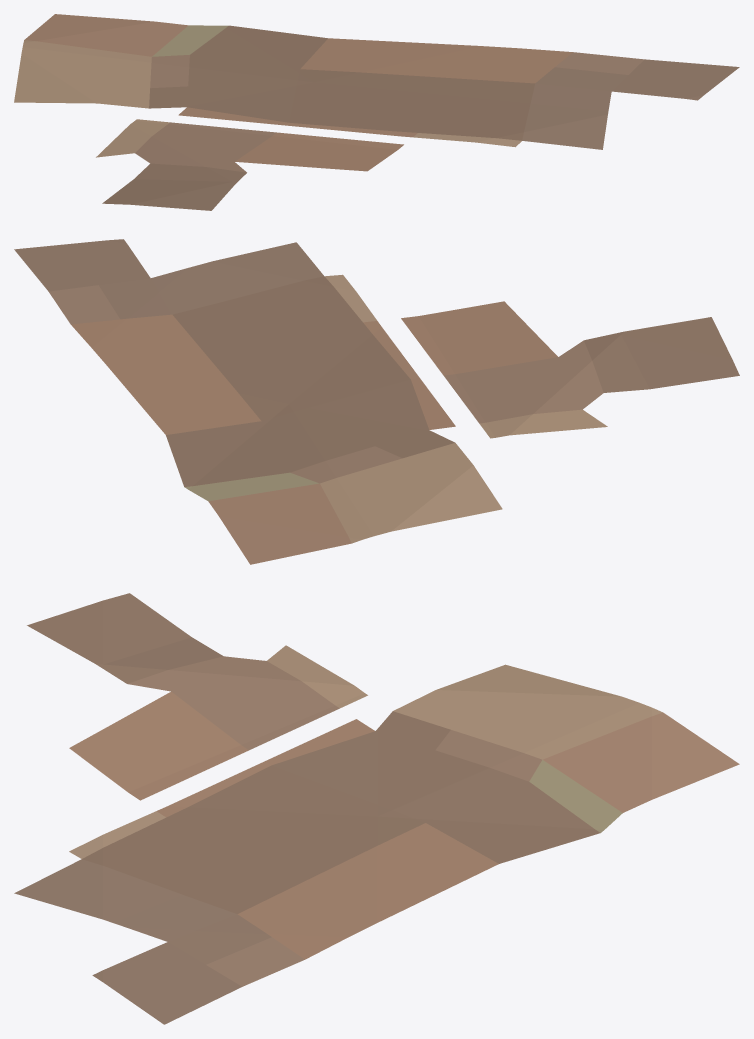
Rendered from farm_-43_-53_soil.glb.
3 views of the same model, one above another, from view 1: azimuth 30°, elevation 25°; view 2: azimuth 150°, elevation 25°; view 3: azimuth 270°, elevation 25° (orthographic). The views are drawn at different scales.
Visible parts, largest first — view 1: geometry_0; view 2: geometry_0; view 3: geometry_0.
Part boxes in pixels (box(x1,y1,x2,y2)): geometry_0: box(14, 14, 739, 210); geometry_0: box(14, 239, 739, 564); geometry_0: box(14, 593, 739, 1024).
Size of the model in its own units: 270 by 18.92 by 212.
